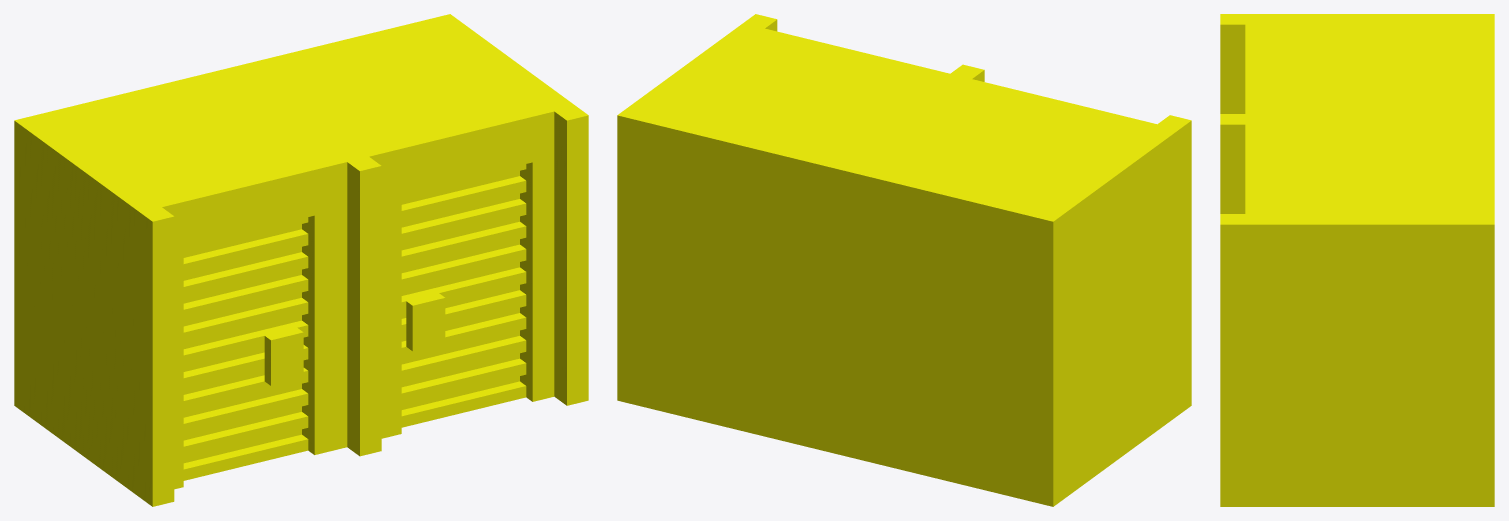
File: BuildingBlock_19.glb
The picture shows the model from 3 angles, left to right: view 1: azimuth 30°, elevation 25°; view 2: azimuth 150°, elevation 25°; view 3: azimuth 270°, elevation 25°; orthographic projection.
Parts seen in each view (by area): view 1: BuildingBlock_19; view 2: BuildingBlock_19; view 3: BuildingBlock_19.
Part boxes in pixels (left/top/right/bottom): BuildingBlock_19: left=14, top=14, right=588, bottom=506; BuildingBlock_19: left=617, top=14, right=1191, bottom=506; BuildingBlock_19: left=1220, top=14, right=1494, bottom=506.
Bounding box in the file's own units: 4 × 2.5 × 2.2.
